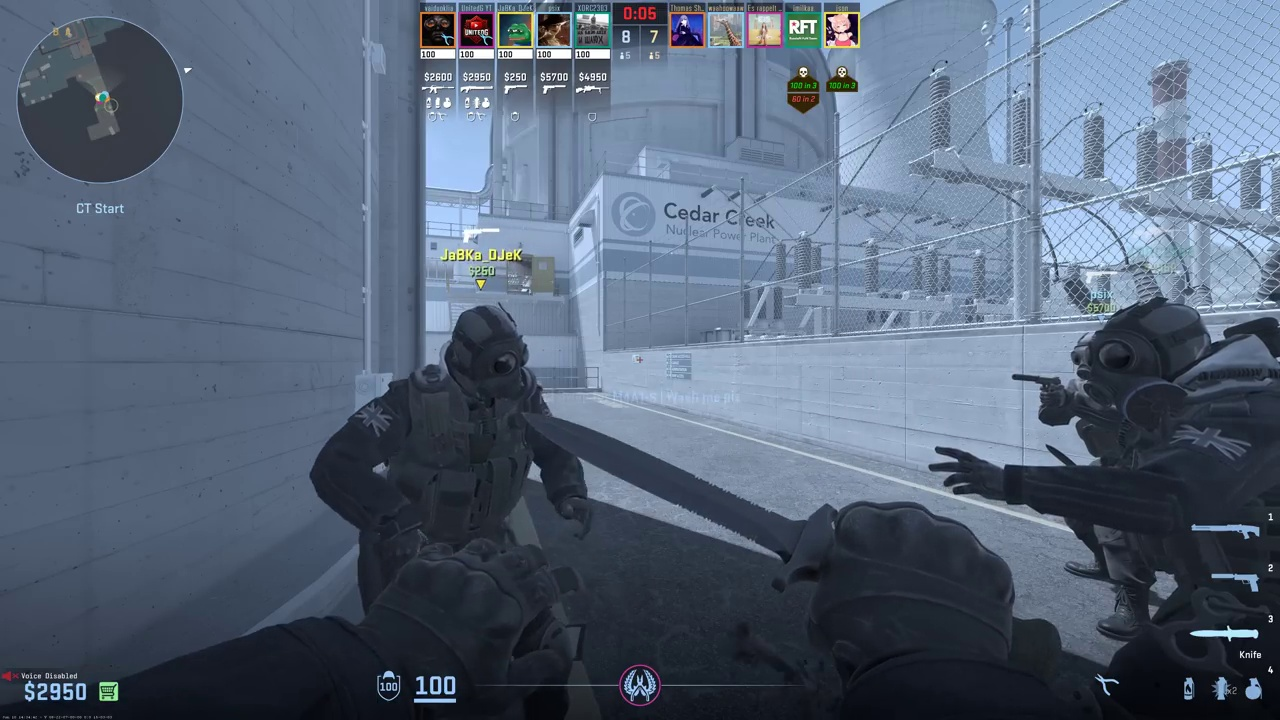CT: (332, 304, 589, 698), (1084, 309, 1280, 713)
